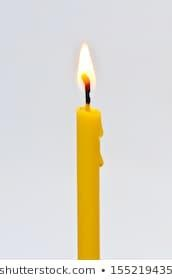fire: (74, 40, 94, 103)
